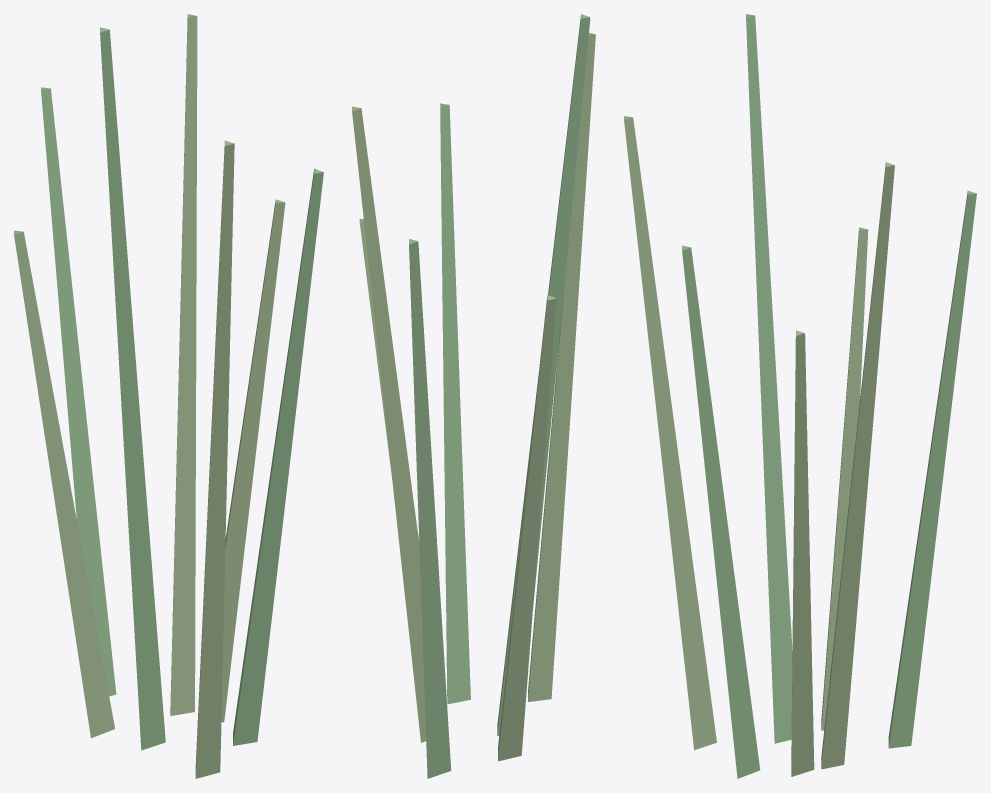
Rendered from reed_v10.glb.
The picture shows the model from 3 angles, left to right: view 1: azimuth 30°, elevation 25°; view 2: azimuth 150°, elevation 25°; view 3: azimuth 270°, elevation 25°; orthographic projection. The views are drawn at different scales.
Parts seen in each view (by area): view 1: lod0; view 2: lod0; view 3: lod0.
Part boxes in pixels (x1,y1,x2,y2): lod0: [14, 14, 323, 778]; lod0: [352, 14, 595, 778]; lod0: [624, 14, 976, 778].
Size of what is drawn, in the model's own units: 0.3349 by 1 by 0.4604.
